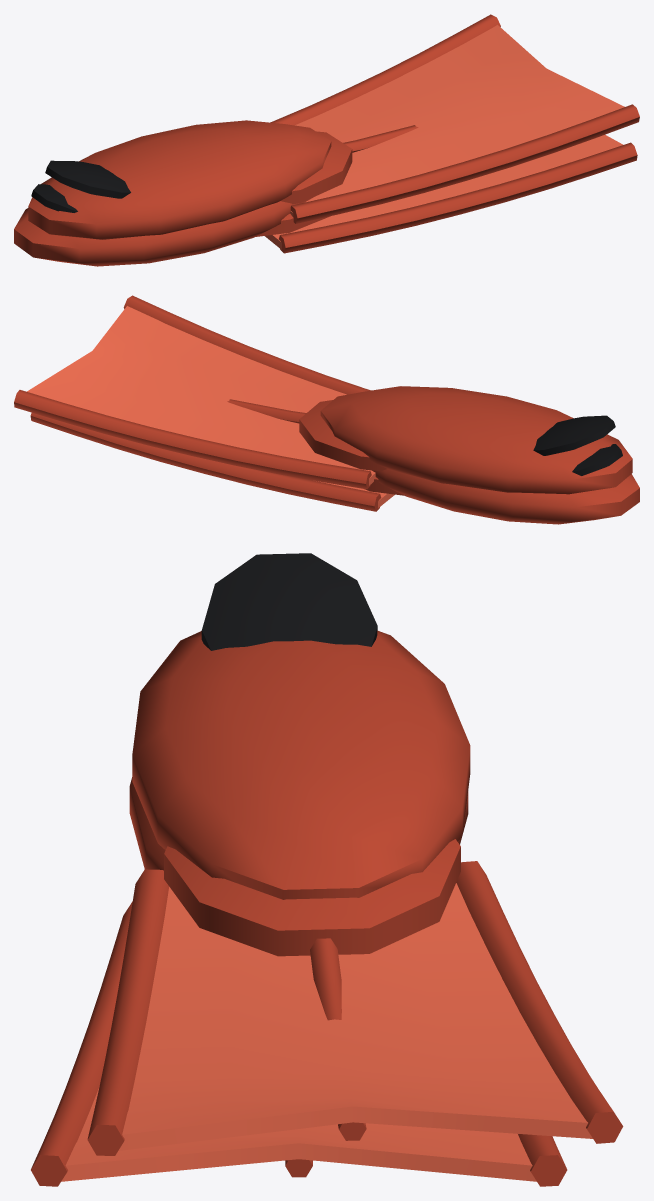
File: fins_pair_3.glb
3 views of the same model, one above another, from view 1: azimuth 30°, elevation 25°; view 2: azimuth 150°, elevation 25°; view 3: azimuth 270°, elevation 25° (orthographic). The views are drawn at different scales.
Parts seen in each view (by area): view 1: Fins_3; view 2: Fins_3; view 3: Fins_3.
Part boxes in pixels (x1,y1,x2,y2): Fins_3: (14,14,639,266); Fins_3: (14,295,639,524); Fins_3: (31,553,623,1186).
Size of the model in its own units: 0.5499 by 0.0931 by 0.256.
